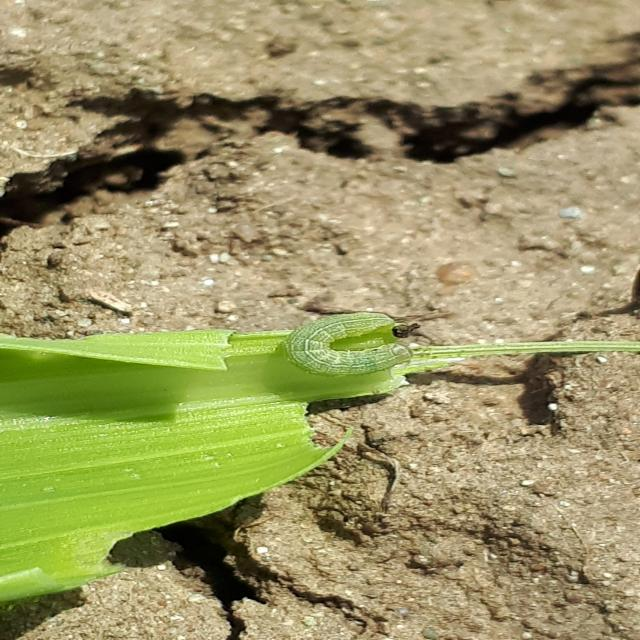armyworm: (287, 314, 421, 376)
